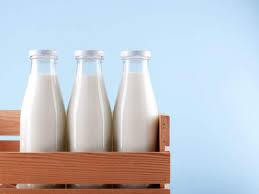milk: (114, 43, 162, 157), (66, 44, 110, 161), (21, 44, 63, 157)
